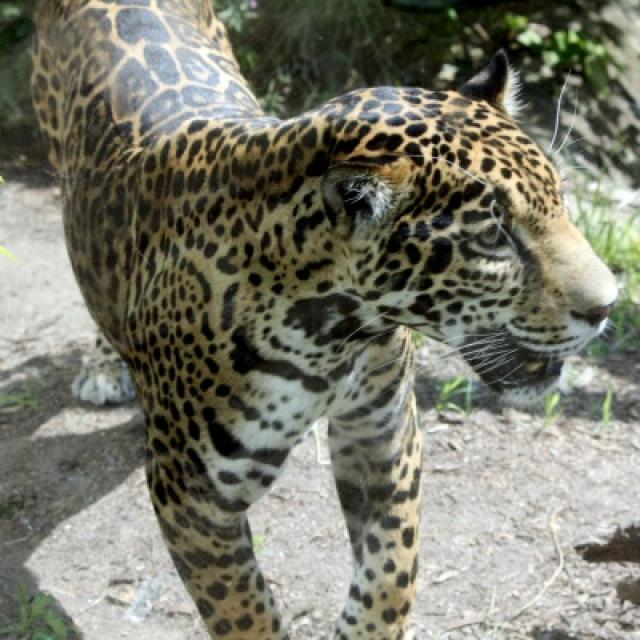Jaguar: (30, 0, 621, 638)
